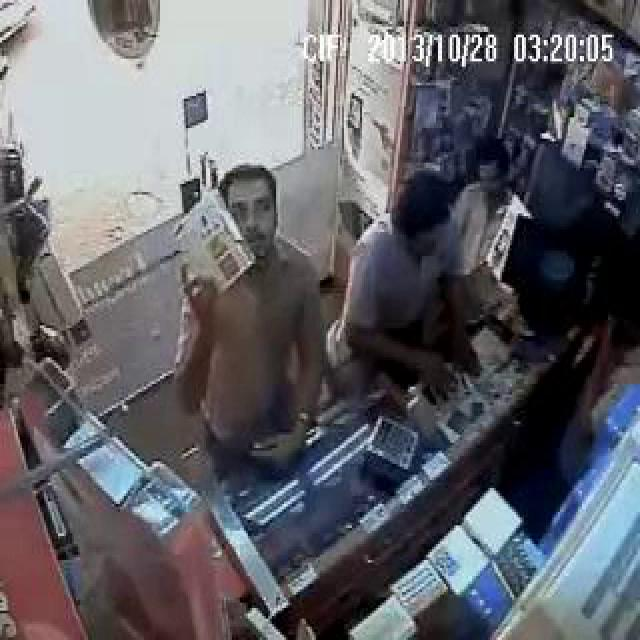shoplifting: (150, 88, 434, 640)
